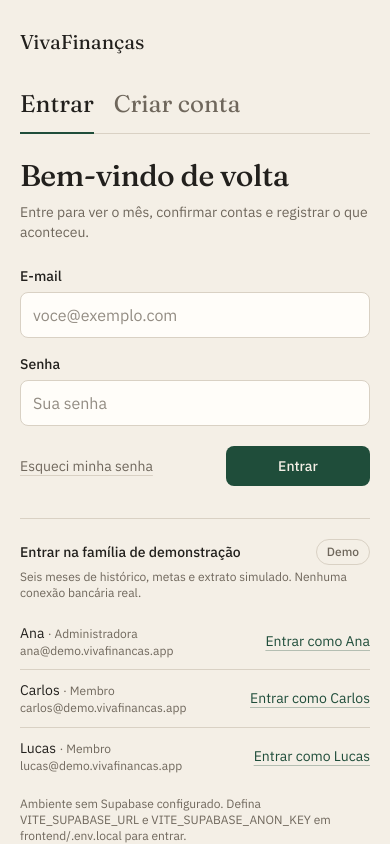
Test: Login › mostra erro claro quando a senha não confere
This screenshot has width=390, height=844.
In the field labelled "E-mail": (195, 315) [20,292,370,338], type "ana@exemplo.com"
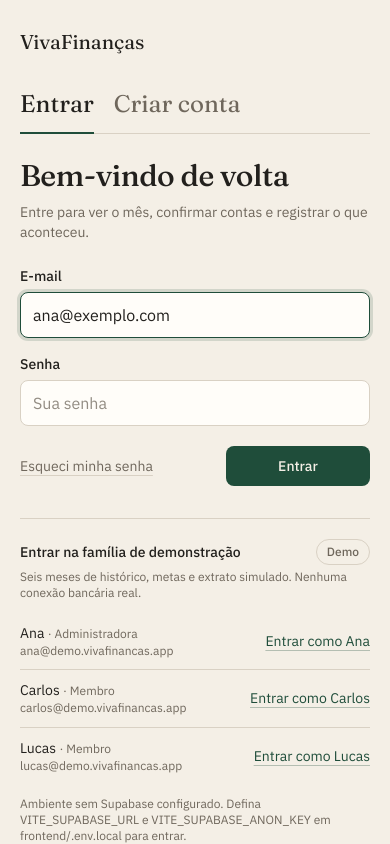
In the password field labelled "Senha": (195, 403) [20,380,370,426], type "errada123"
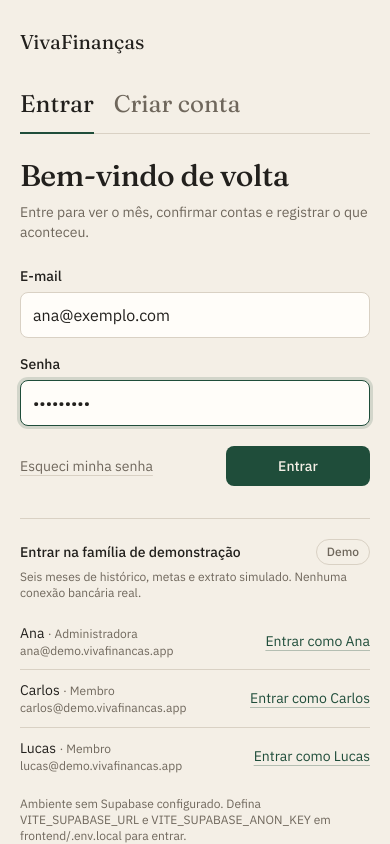
Press Enter
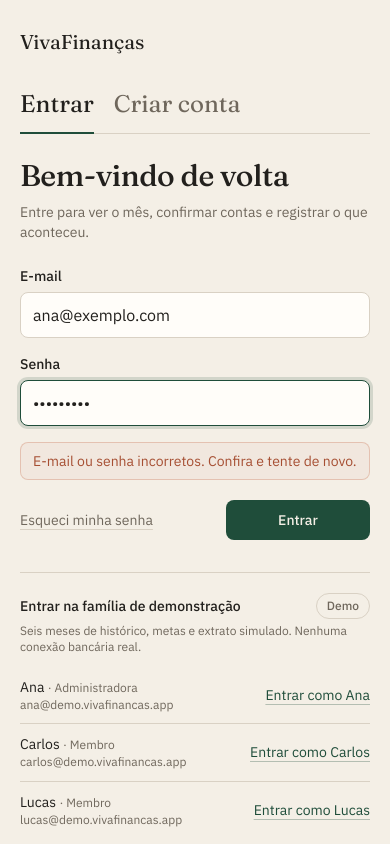
Check: the message shows "E-mail ou senha incorretos", box [33,452,357,470]
